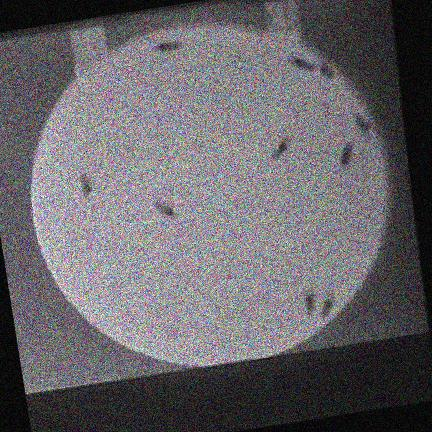fly: (288, 57, 316, 72), (272, 138, 291, 160), (354, 113, 373, 134), (154, 201, 177, 218), (304, 290, 315, 316), (80, 174, 93, 195), (341, 144, 352, 168), (322, 296, 334, 318), (319, 63, 334, 79), (157, 42, 181, 52)
